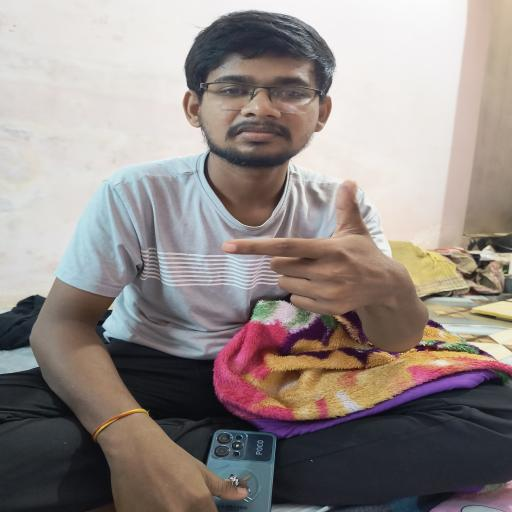OK: (193, 170, 423, 323)
